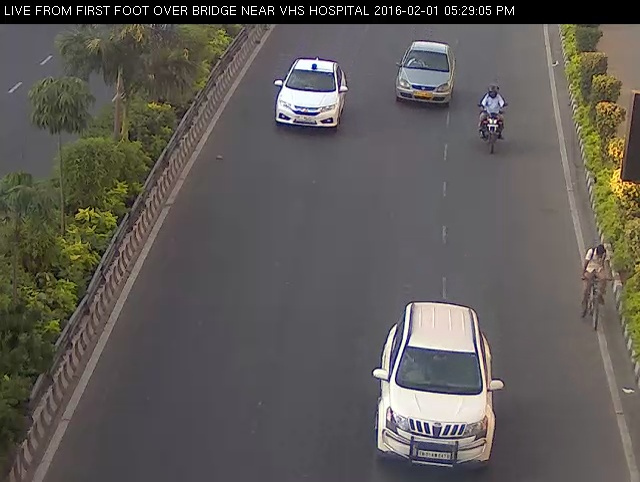Car: (367, 293, 509, 481), (261, 46, 359, 142), (384, 33, 464, 114)
Person: (471, 78, 515, 159)
